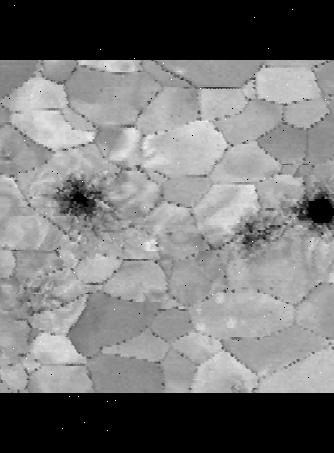good_void: (44, 170, 103, 231), (280, 191, 334, 247), (15, 274, 69, 317), (236, 218, 276, 252)
